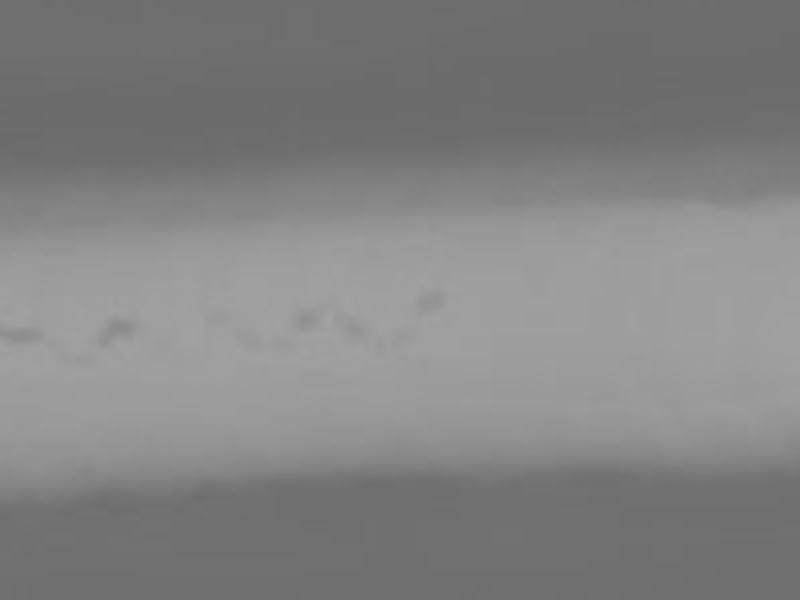defect: (102, 315, 144, 345), (2, 325, 46, 348), (347, 321, 377, 348), (300, 309, 325, 334), (419, 291, 444, 313)
